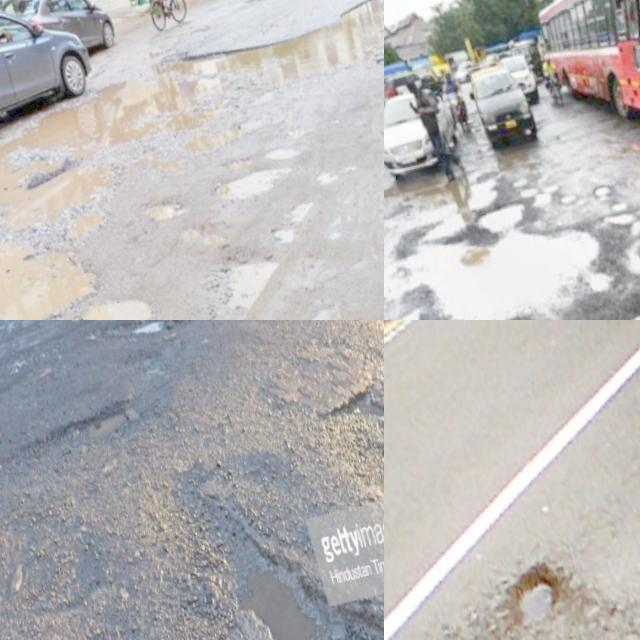Potholes: (0, 53, 309, 278), (384, 130, 614, 320), (155, 463, 384, 640), (136, 0, 384, 148), (442, 467, 601, 640), (0, 167, 167, 320), (308, 320, 384, 640), (39, 368, 146, 482), (180, 229, 302, 320), (575, 137, 640, 295), (124, 173, 209, 267), (99, 320, 208, 388), (556, 236, 640, 320)
